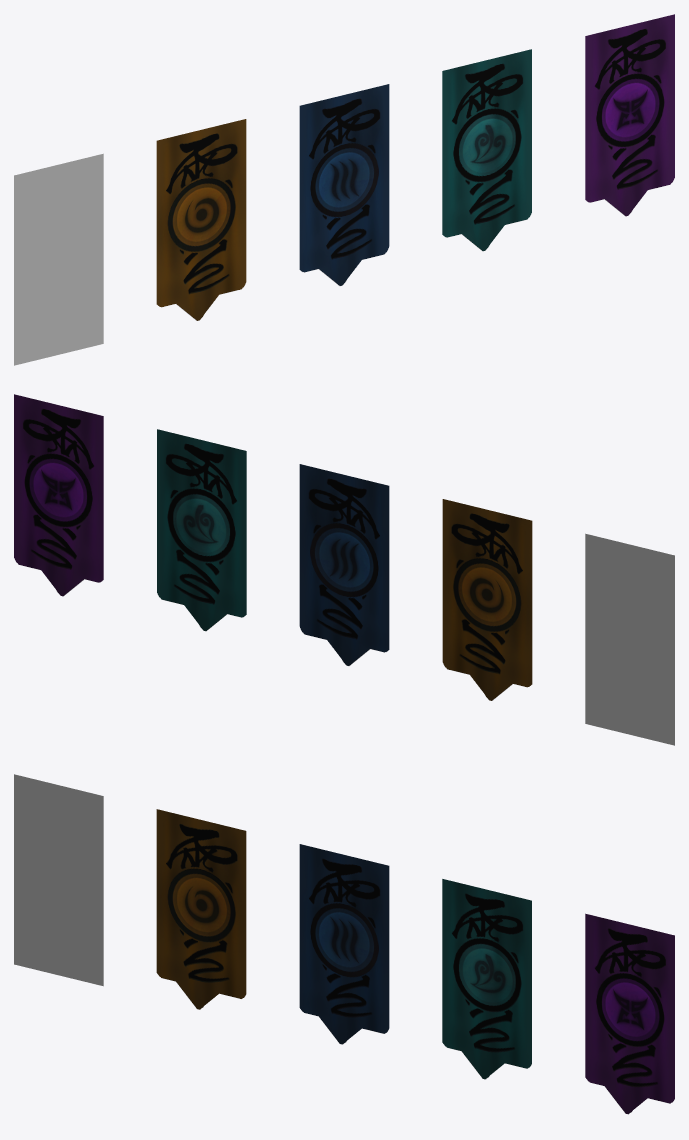
The picture shows the model from 3 angles, top to bottom: view 1: azimuth 30°, elevation 25°; view 2: azimuth 150°, elevation 25°; view 3: azimuth 330°, elevation 25°; orthographic projection.
Parts seen in each view (by area): view 1: Object210, Object211, Object215, Object209, Object208; view 2: Object210, Object211, Object215, Object209, Object208; view 3: Object210, Object215, Object211, Object209, Object208.
Boxes of the visible parts, x1,y1,x2,y2 form: Object210: (14, 153, 103, 365); Object211: (156, 119, 246, 320); Object215: (299, 84, 389, 285); Object209: (442, 49, 531, 251); Object208: (585, 14, 674, 216); Object210: (585, 533, 674, 745); Object211: (442, 499, 532, 700); Object215: (299, 464, 389, 665); Object209: (157, 429, 246, 631); Object208: (14, 394, 103, 596); Object210: (14, 774, 103, 986); Object215: (299, 844, 389, 1044); Object211: (156, 809, 246, 1009); Object209: (442, 879, 531, 1079); Object208: (585, 913, 674, 1114).
Bounding box in the file's own units: 262 × 0 × 72.03.
